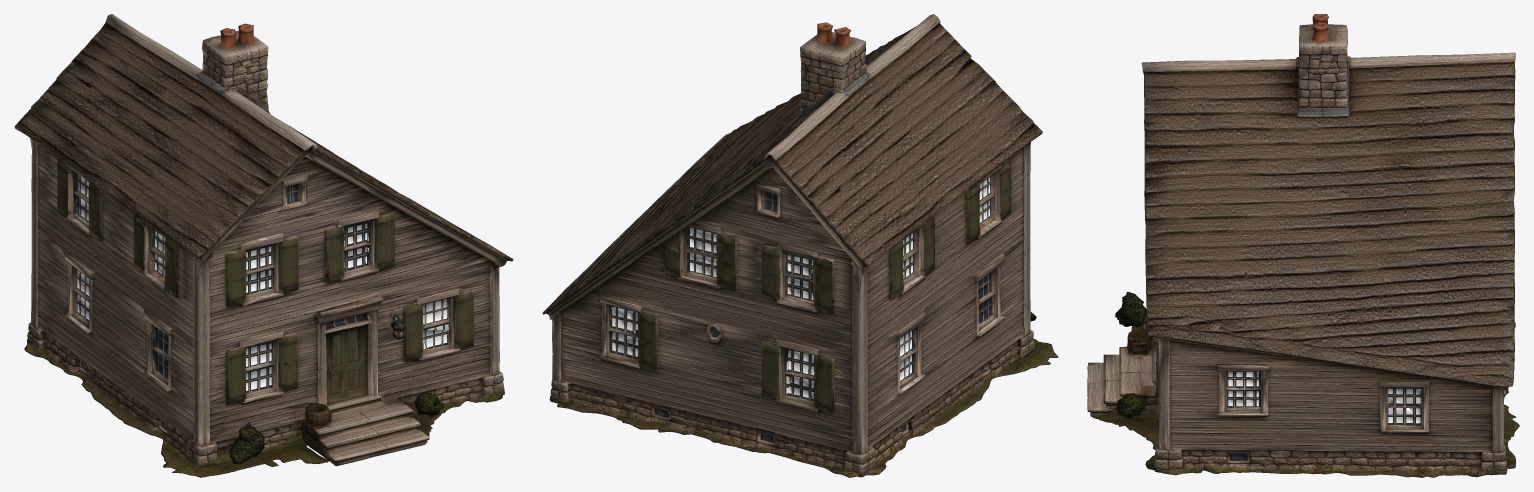
Rendered from SaltboxV05.fbx.
3 views of the same model, side by side, from view 1: azimuth 30°, elevation 25°; view 2: azimuth 150°, elevation 25°; view 3: azimuth 270°, elevation 25° (orthographic). The views are drawn at different scales.
Parts seen in each view (by area): view 1: tripo_part_1, tripo_part_3, tripo_part_0, CF_LitMesh_tripo_part_4, tripo_part_5, CF_LitMesh_tripo_part_13, tripo_part_6, CF_LitMesh_tripo_part_12, tripo_part_19, tripo_part_2, CF_LitMesh_tripo_part_21, tripo_part_15 (+6 smaller); view 2: tripo_part_1, tripo_part_3, tripo_part_0, CF_LitMesh_tripo_part_7, tripo_part_6, CF_LitMesh_tripo_part_14, CF_LitMesh_tripo_part_9, CF_LitMesh_tripo_part_16, CF_LitMesh_tripo_part_21, tripo_part_2, CF_LitMesh_tripo_part_8, tripo_part_26 (+4 smaller); view 3: tripo_part_3, tripo_part_1, tripo_part_0, tripo_part_6, tripo_part_5, CF_LitMesh_tripo_part_18, CF_LitMesh_tripo_part_17, tripo_part_11, tripo_part_15, tripo_part_20.
Part boxes in pixels (x1,y1,x2,y2): tripo_part_1: (30, 138, 507, 446); tripo_part_3: (14, 14, 513, 261); tripo_part_0: (24, 322, 504, 464); CF_LitMesh_tripo_part_4: (225, 214, 394, 307); tripo_part_5: (300, 395, 429, 466); CF_LitMesh_tripo_part_13: (210, 333, 298, 405); tripo_part_6: (197, 23, 268, 111); CF_LitMesh_tripo_part_12: (378, 290, 474, 361); tripo_part_19: (325, 322, 371, 405); tripo_part_2: (160, 437, 328, 477); CF_LitMesh_tripo_part_21: (70, 266, 90, 326); tripo_part_15: (229, 423, 264, 463); tripo_part_1: (549, 142, 1031, 454); tripo_part_3: (542, 14, 1042, 314); tripo_part_0: (549, 330, 1034, 477); CF_LitMesh_tripo_part_7: (761, 340, 852, 413); tripo_part_6: (799, 22, 869, 116); CF_LitMesh_tripo_part_14: (761, 244, 834, 314); CF_LitMesh_tripo_part_9: (681, 226, 737, 290); CF_LitMesh_tripo_part_16: (605, 304, 658, 370); CF_LitMesh_tripo_part_21: (899, 327, 918, 389); tripo_part_2: (990, 338, 1058, 379); CF_LitMesh_tripo_part_8: (979, 172, 996, 228); tripo_part_26: (664, 230, 683, 278); tripo_part_3: (1141, 52, 1515, 387); tripo_part_1: (1141, 314, 1507, 454); tripo_part_0: (1145, 322, 1519, 477); tripo_part_6: (1295, 14, 1350, 116); tripo_part_5: (1087, 329, 1158, 416); CF_LitMesh_tripo_part_18: (1385, 387, 1423, 428); CF_LitMesh_tripo_part_17: (1224, 370, 1263, 410); tripo_part_11: (1092, 411, 1158, 444); tripo_part_15: (1115, 292, 1146, 326); tripo_part_20: (1115, 393, 1145, 418).
Bounding box in the file's own units: 89.41 × 87.36 × 95.25.
